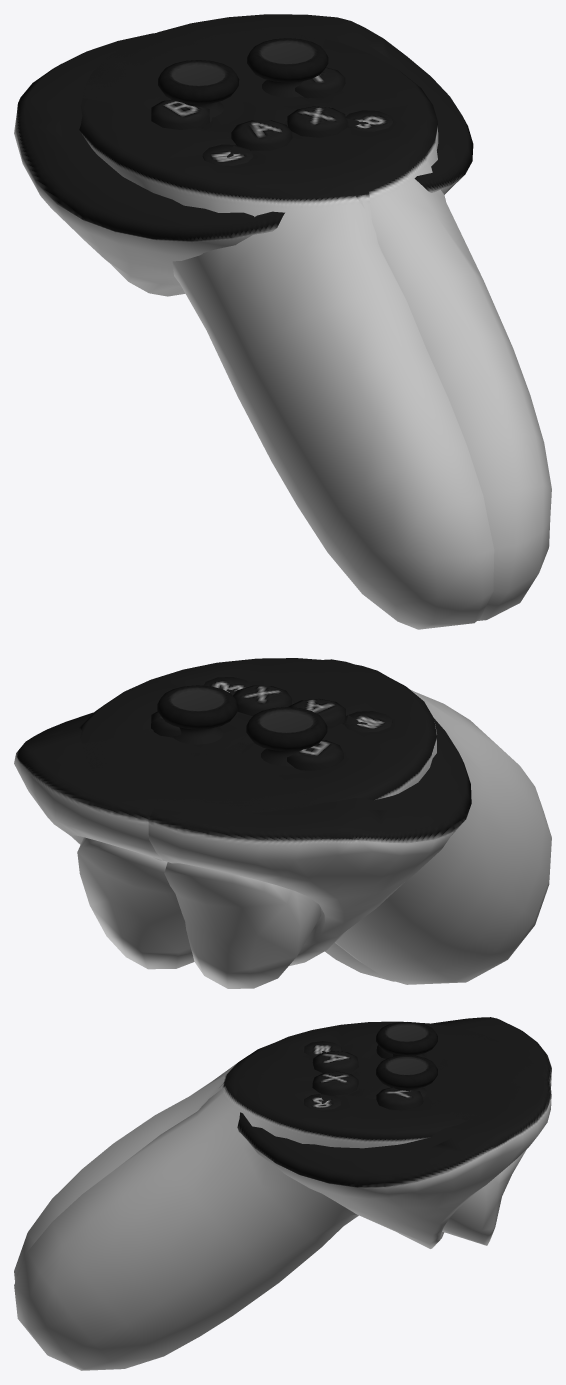
Rendered from meta_quest_controllers.glb.
3 renders of one model, top to bottom at view 1: azimuth 30°, elevation 25°; view 2: azimuth 150°, elevation 25°; view 3: azimuth 270°, elevation 25°, orthographic. The views are drawn at different scales.
Visible parts, largest first — view 1: controller_L_low_meta_quest_3_mat_0, controller_R_low_meta_quest_3_mat_0, buttons_R_low_meta_quest_3_mat_0, buttons_L_low_meta_quest_3_mat_0; view 2: controller_L_low_meta_quest_3_mat_0, controller_R_low_meta_quest_3_mat_0, buttons_R_low_meta_quest_3_mat_0, buttons_L_low_meta_quest_3_mat_0; view 3: controller_R_low_meta_quest_3_mat_0, controller_L_low_meta_quest_3_mat_0, buttons_L_low_meta_quest_3_mat_0, buttons_R_low_meta_quest_3_mat_0.
Boxes of the visible parts, bbox=[...] form: controller_L_low_meta_quest_3_mat_0: bbox=[79, 14, 494, 629]; controller_R_low_meta_quest_3_mat_0: bbox=[14, 28, 551, 620]; buttons_R_low_meta_quest_3_mat_0: bbox=[151, 38, 393, 150]; buttons_L_low_meta_quest_3_mat_0: bbox=[158, 60, 346, 165]; controller_L_low_meta_quest_3_mat_0: bbox=[14, 659, 551, 984]; controller_R_low_meta_quest_3_mat_0: bbox=[79, 658, 471, 981]; buttons_R_low_meta_quest_3_mat_0: bbox=[157, 677, 345, 988]; buttons_L_low_meta_quest_3_mat_0: bbox=[77, 685, 392, 969]; controller_R_low_meta_quest_3_mat_0: bbox=[14, 1017, 551, 1370]; controller_L_low_meta_quest_3_mat_0: bbox=[14, 1021, 551, 1282]; buttons_L_low_meta_quest_3_mat_0: bbox=[304, 1022, 526, 1245]; buttons_R_low_meta_quest_3_mat_0: bbox=[304, 1045, 437, 1110].
Size of the model in its own units: 0.1071 by 0.1037 by 0.1624.
1 material, 1 textured.
